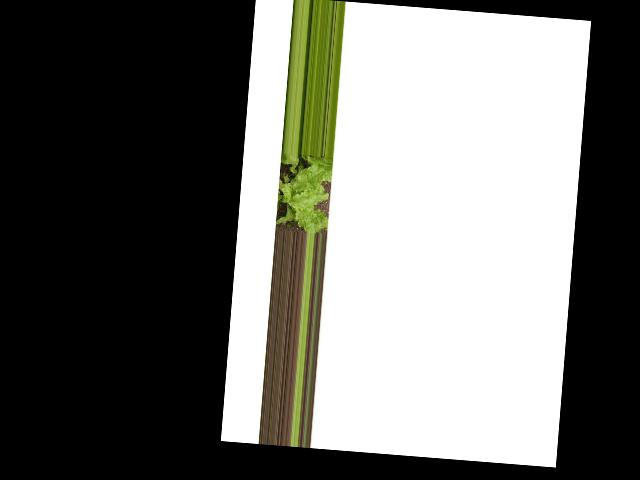lettuce: (271, 152, 331, 233)
